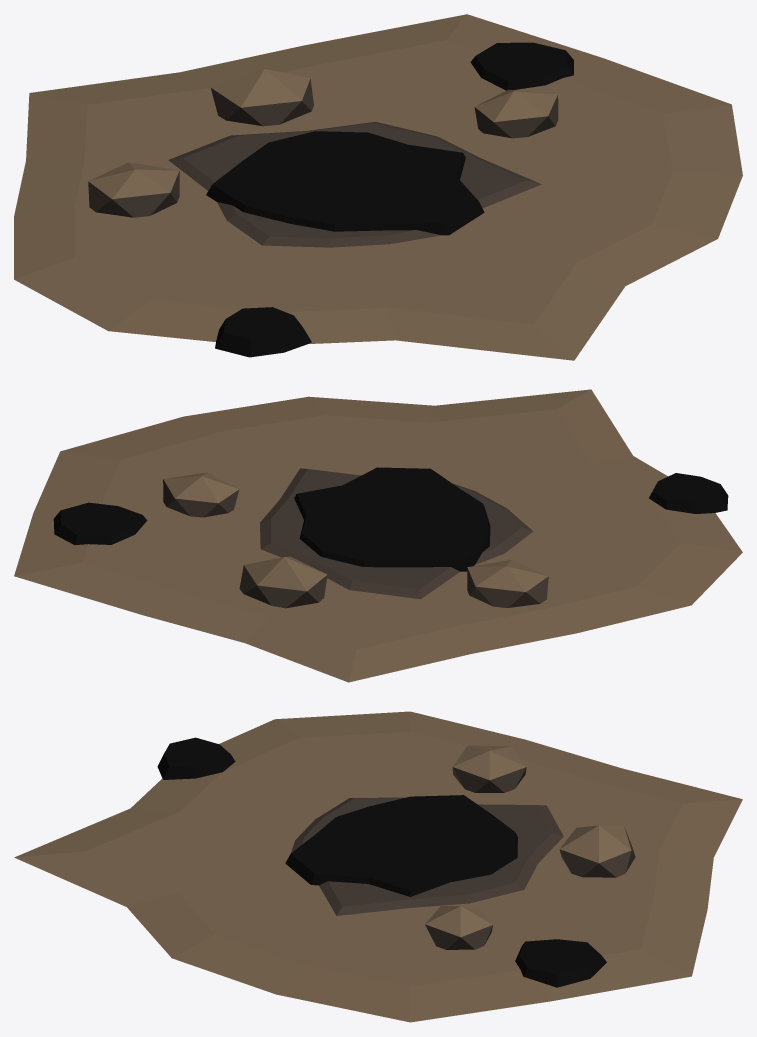
File: oil_seep_depleted.glb
3 renders of one model, top to bottom at view 1: azimuth 30°, elevation 25°; view 2: azimuth 150°, elevation 25°; view 3: azimuth 270°, elevation 25°, orthographic. The views are drawn at different scales.
Parts seen in each view (by area): view 1: oil_seep_depleted; view 2: oil_seep_depleted; view 3: oil_seep_depleted.
Boxes of the visible parts, x1,y1,x2,y2 form: oil_seep_depleted: (14, 14, 742, 360); oil_seep_depleted: (14, 389, 742, 682); oil_seep_depleted: (14, 711, 742, 1022).
Bounding box in the file's own units: 3.26 × 0.1989 × 3.23.
